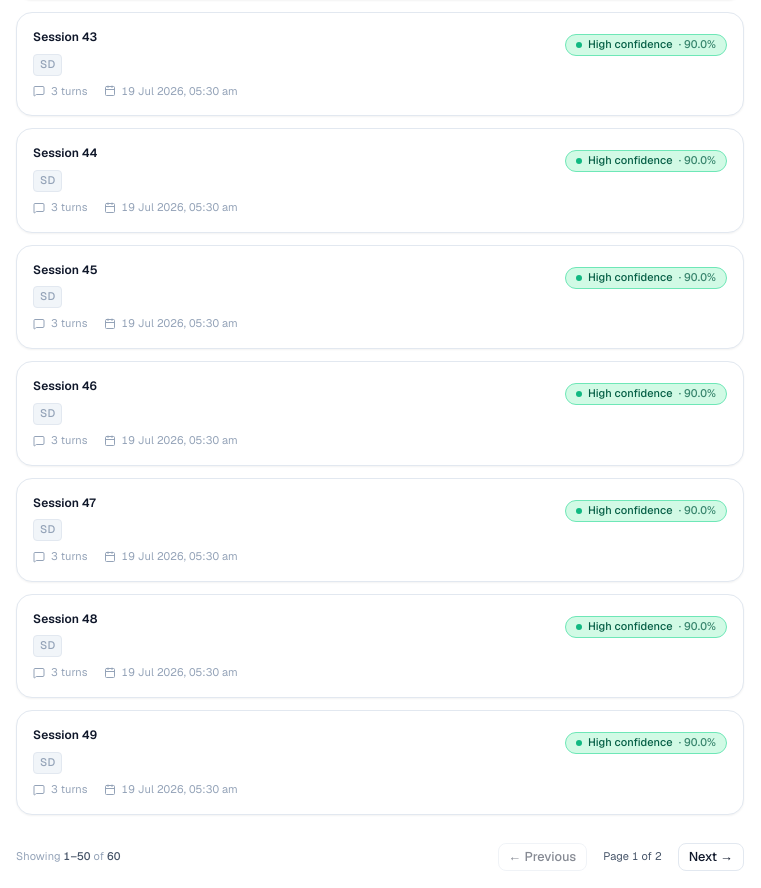
HistoryPage › Next/Previous buttons page through results correctly
This screenshot has width=761, height=888.
(page scrolled)
Expected: the text "Page 1 of 2" is shown, [603,849,662,863]
Click the button "Next →". click: (711, 857)
box: [678,843,744,871]
(page scrolled)
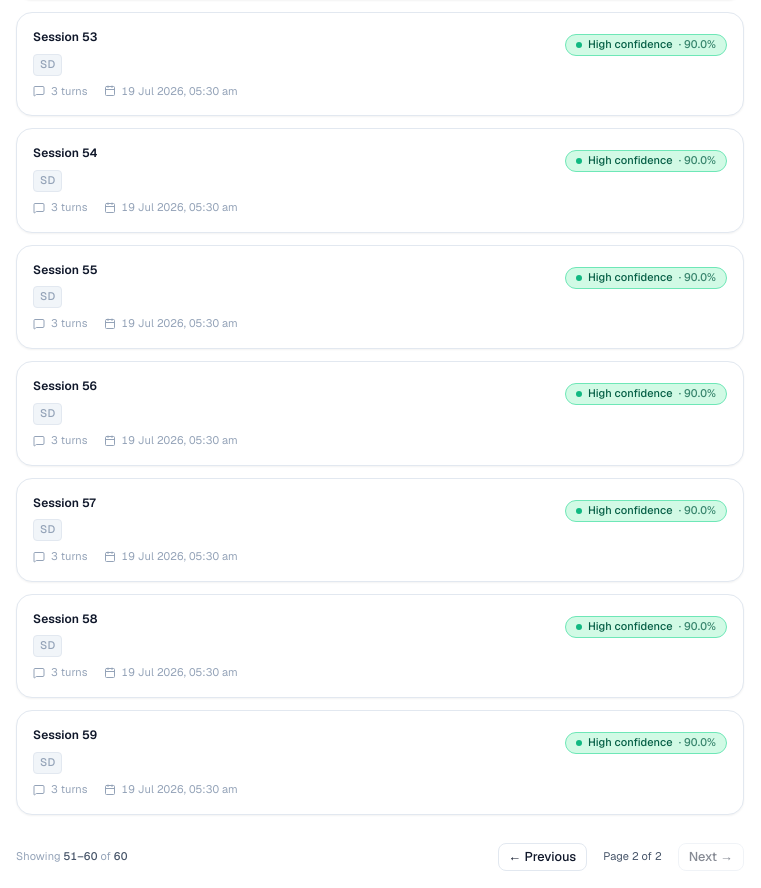
Expected: the text "Page 2 of 2" is shown, [603,849,662,863]
Expected: the button "Next →" is disabled, [678,843,744,871]
Expected: the button "← Previous" is enabled
Click the button "← Previous". click: (542, 857)
box: [498,843,587,871]
(page scrolled)
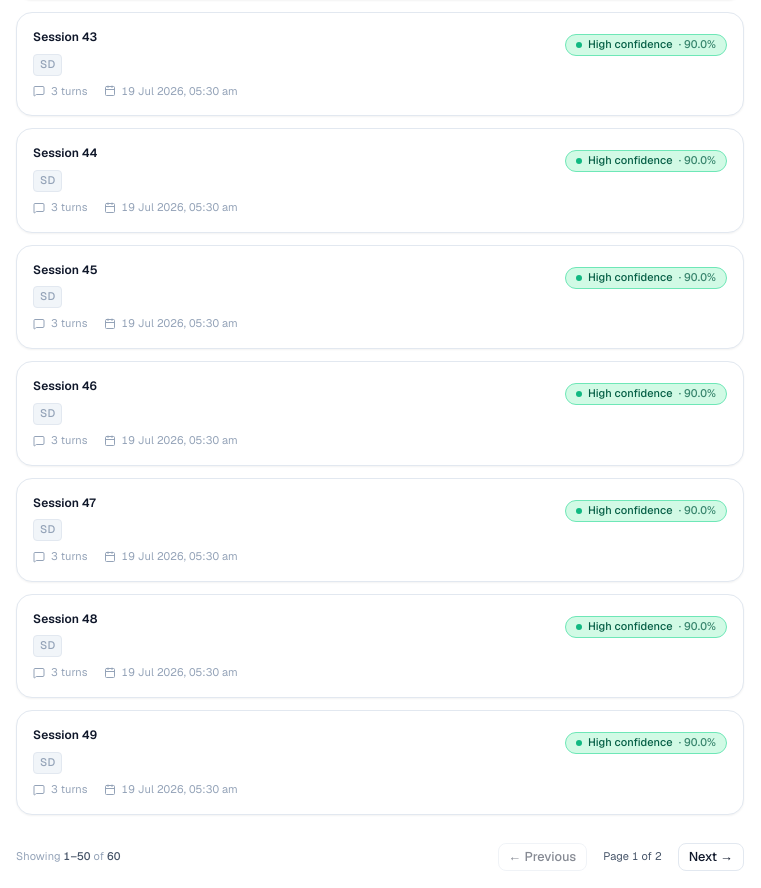
Expected: the text "Page 1 of 2" is shown, [603,849,662,863]
